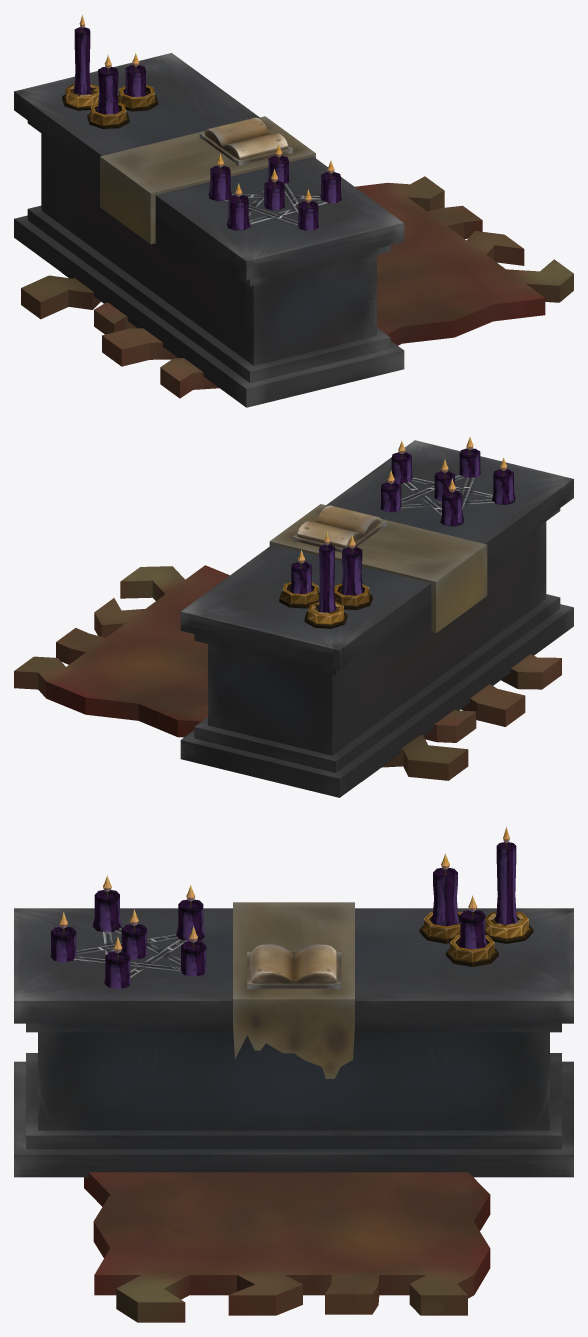
File: SM_oltarz.fbx
3 views of the same model, one above another, from view 1: azimuth 30°, elevation 25°; view 2: azimuth 150°, elevation 25°; view 3: azimuth 270°, elevation 25° (orthographic). The views are drawn at different scales.
Visible parts, largest first — view 1: oltarz, Plane003, ksiazka otwarta.001, Cylinder004.001, Cylinder003, pentagram.002, Cylinder002.006, Cylinder002.005, Cylinder002.004, Cylinder002, Cylinder002.003, Cylinder002.001 (+4 smaller); view 2: oltarz, Plane003, ksiazka otwarta.001, pentagram.002, Cylinder004.001, Cylinder003, Cylinder002.003, Cylinder002.005, Cylinder002.006, Cylinder002, Cylinder002.001, Cylinder002.008 (+4 smaller); view 3: oltarz, Plane003, ksiazka otwarta.001, Cylinder004.001, Cylinder003, pentagram.002, Cylinder002.006, Cylinder002, Cylinder002.005, Cylinder002.003, Cylinder002.001, Cylinder002.007 (+4 smaller).
Part boxes in pixels (x1,y1,x2,y2): oltarz: [14, 53, 404, 407]; Plane003: [21, 176, 573, 398]; ksiazka otwarta.001: [199, 117, 292, 166]; Cylinder004.001: [73, 14, 91, 94]; Cylinder003: [96, 55, 119, 114]; pentagram.002: [224, 183, 327, 225]; Cylinder002.006: [227, 183, 250, 230]; Cylinder002.005: [208, 154, 231, 201]; Cylinder002.004: [87, 103, 129, 128]; Cylinder002: [124, 53, 146, 96]; Cylinder002.003: [62, 83, 98, 110]; Cylinder002.001: [117, 85, 158, 111]; oltarz: [180, 440, 573, 797]; Plane003: [14, 565, 561, 781]; ksiazka otwarta.001: [292, 505, 386, 552]; pentagram.002: [401, 475, 494, 515]; Cylinder004.001: [318, 532, 335, 612]; Cylinder003: [341, 535, 363, 595]; Cylinder002.003: [304, 601, 347, 628]; Cylinder002.005: [440, 478, 463, 526]; Cylinder002.006: [492, 457, 515, 504]; Cylinder002: [290, 550, 313, 593]; Cylinder002.001: [279, 582, 319, 608]; Cylinder002.008: [459, 436, 480, 477]; oltarz: [14, 902, 573, 1177]; Plane003: [84, 1172, 490, 1322]; ksiazka otwarta.001: [247, 944, 341, 989]; Cylinder004.001: [495, 826, 517, 924]; Cylinder003: [431, 853, 459, 926]; pentagram.002: [73, 928, 186, 977]; Cylinder002.006: [92, 875, 121, 931]; Cylinder002: [458, 895, 486, 949]; Cylinder002.005: [176, 885, 205, 941]; Cylinder002.003: [485, 911, 533, 943]; Cylinder002.001: [446, 935, 498, 966]; Cylinder002.007: [104, 936, 131, 988].
Bounding box in the file's own units: 324 × 178 × 304.
